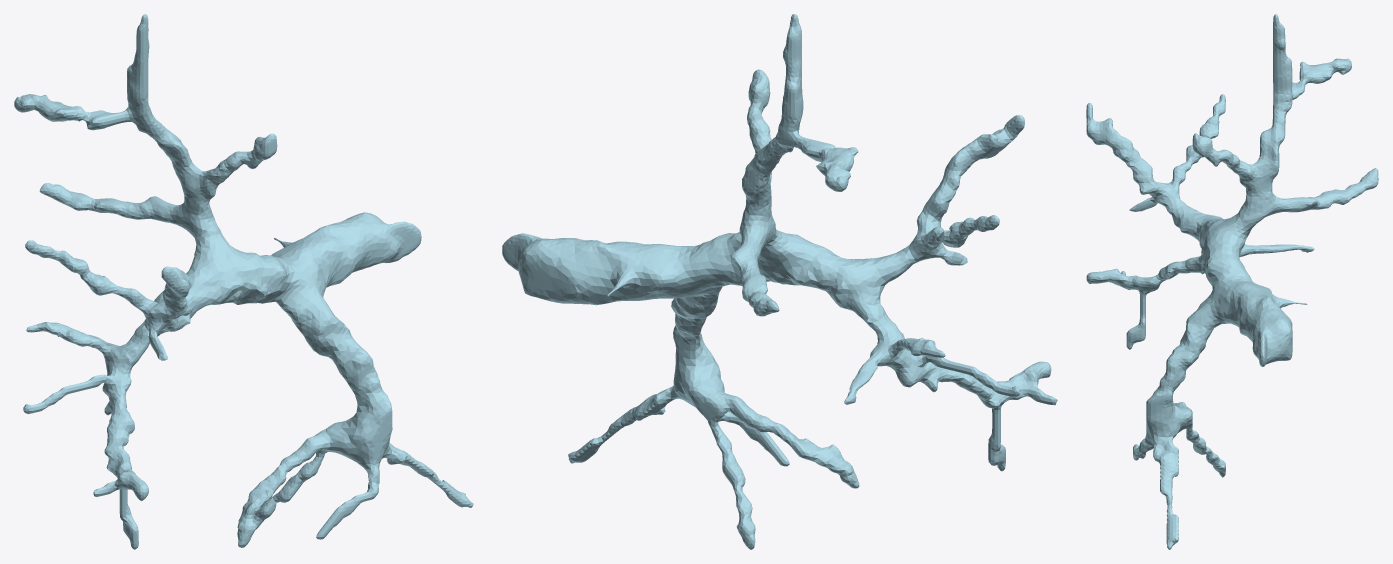
The model's file is portalvein.obj.
3 views of the same model, side by side, from view 1: azimuth 30°, elevation 25°; view 2: azimuth 150°, elevation 25°; view 3: azimuth 270°, elevation 25° (orthographic). The views are drawn at different scales.
Visible parts, largest first — view 1: grp1; view 2: grp1; view 3: grp1.
Boxes of the visible parts, x1,y1,x2,y2 form: grp1: [14, 14, 473, 549]; grp1: [502, 14, 1057, 549]; grp1: [1086, 14, 1378, 549].
Size of the model in its own units: 100 by 115 by 70.27.
